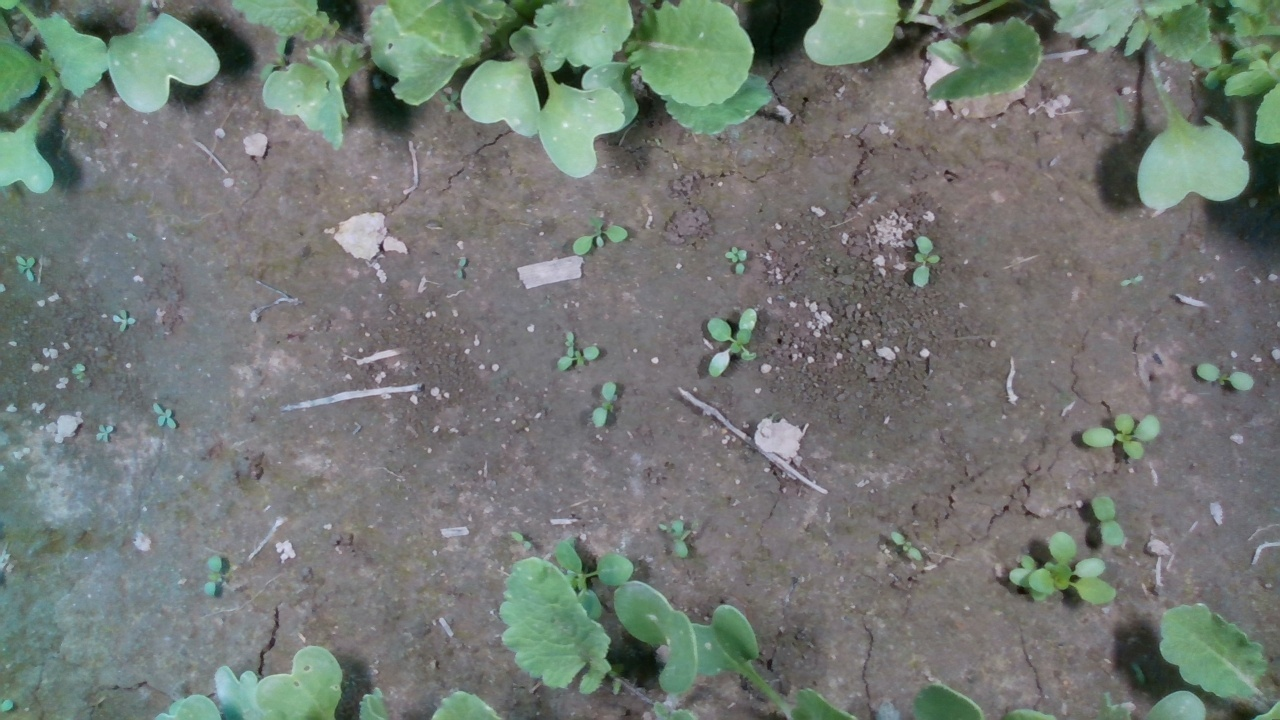weed: (1079, 412, 1160, 462), (572, 215, 629, 257), (1090, 492, 1128, 550), (1192, 360, 1256, 391), (910, 235, 940, 288), (588, 378, 616, 428), (889, 529, 925, 563), (149, 400, 180, 432), (202, 553, 224, 598), (108, 306, 138, 333), (12, 253, 38, 281), (94, 423, 116, 446)
